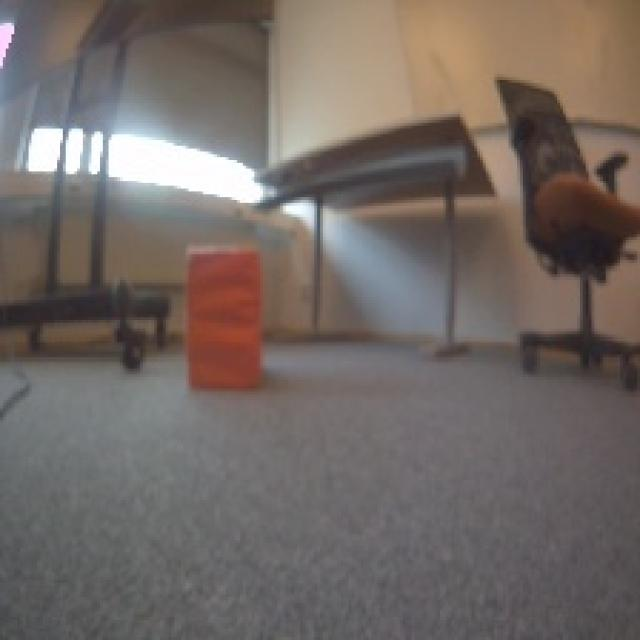target: (180, 240, 266, 391)
